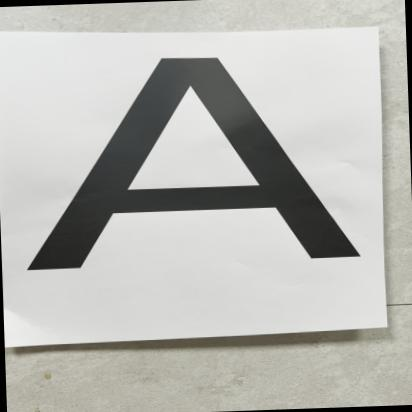seat: (8, 42, 385, 280)
